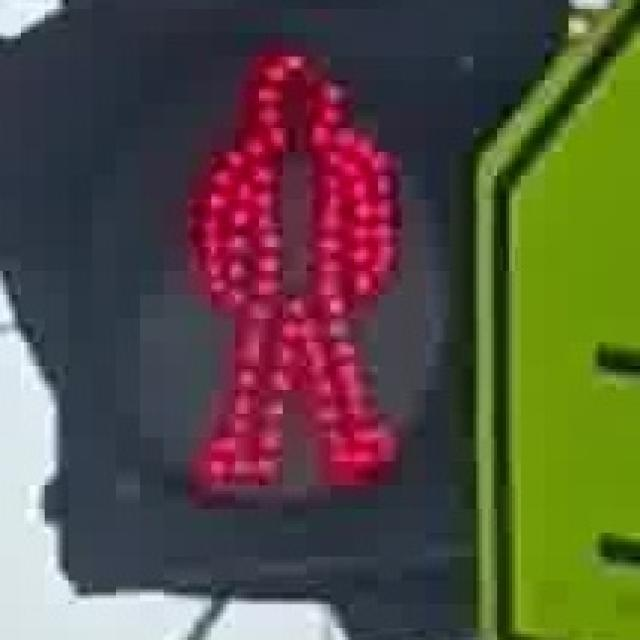red-crossing: (152, 29, 411, 510)
